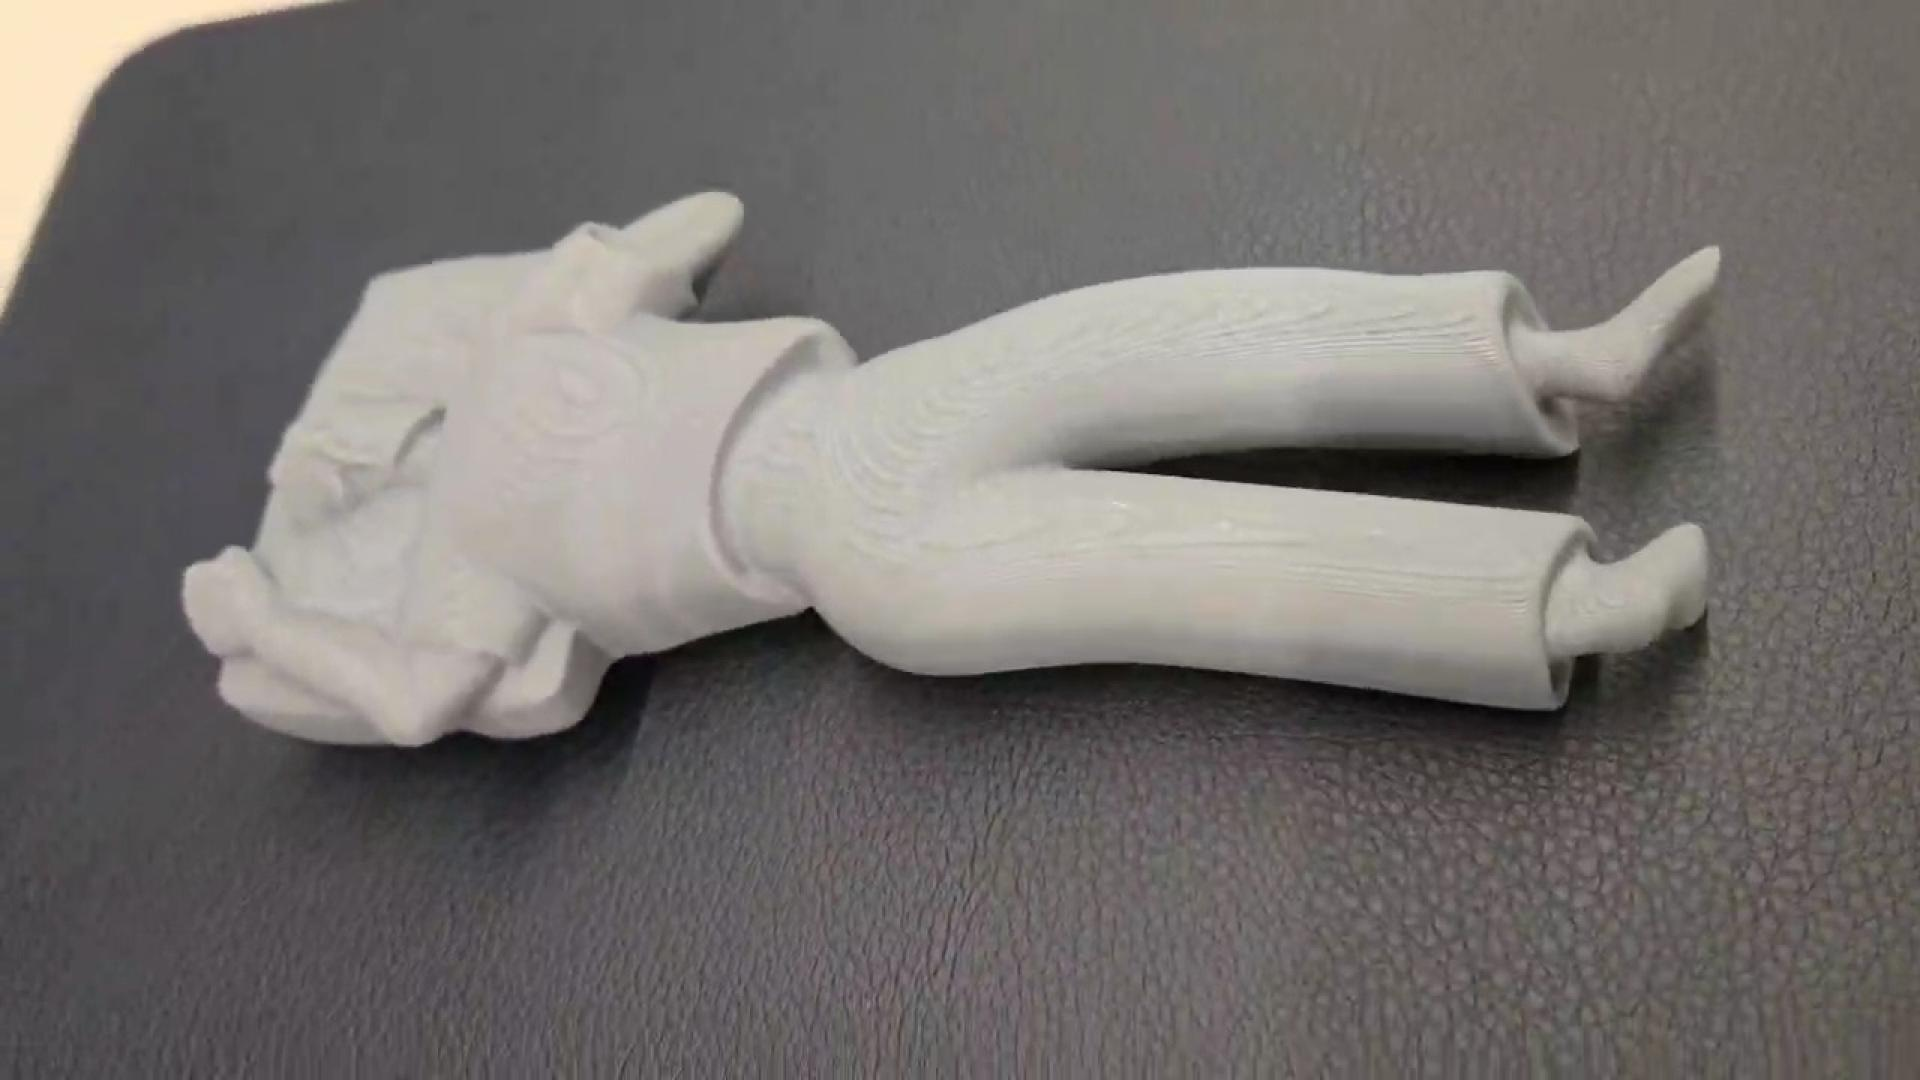Bad-style: (177, 189, 1729, 771)
